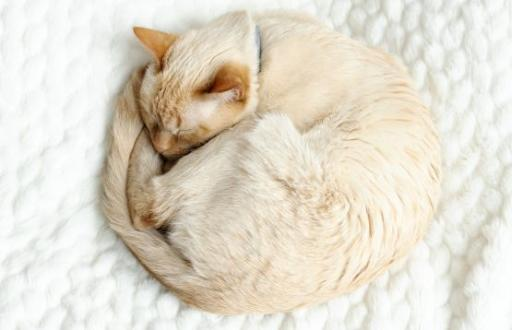cat_sleeping: (104, 11, 440, 313)
